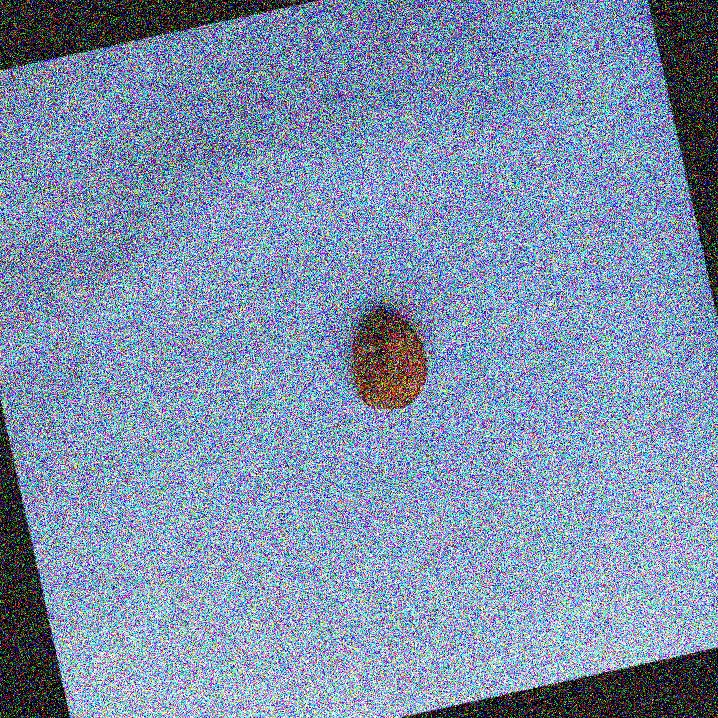grade3: (333, 297, 439, 423)
